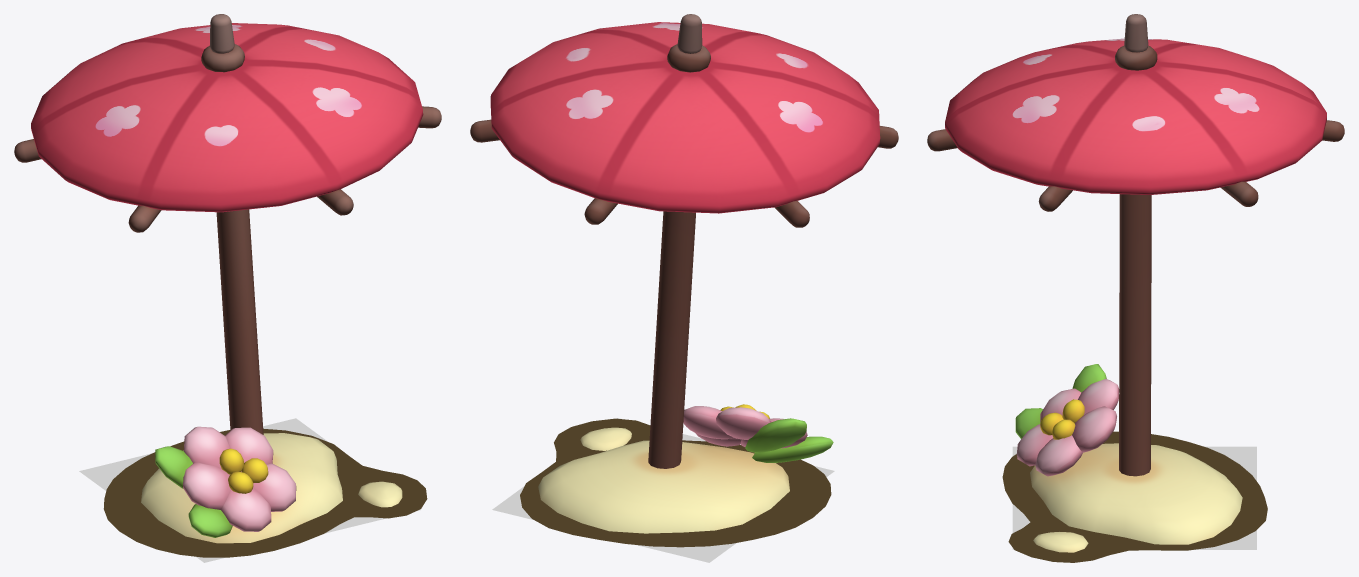
The model's file is JP_Umbrella.fbx.
The picture shows the model from 3 angles, left to right: view 1: azimuth 30°, elevation 25°; view 2: azimuth 150°, elevation 25°; view 3: azimuth 270°, elevation 25°; orthographic projection. The views are drawn at different scales.
Parts seen in each view (by area): view 1: polySurface2, Shadow, Umbrella_Grid; view 2: polySurface2, Shadow, Umbrella_Grid; view 3: polySurface2, Shadow, Umbrella_Grid.
Boxes of the visible parts, left/top/right/bottom form: polySurface2: left=14, top=14, right=441, bottom=543; Shadow: left=103, top=428, right=427, bottom=557; Umbrella_Grid: left=79, top=418, right=420, bottom=562; polySurface2: left=470, top=14, right=898, bottom=533; Shadow: left=520, top=418, right=831, bottom=547; Umbrella_Grid: left=492, top=418, right=834, bottom=562; polySurface2: left=927, top=14, right=1344, bottom=552; Shadow: left=1002, top=431, right=1267, bottom=562; Umbrella_Grid: left=1012, top=446, right=1256, bottom=549.
Bounding box in the file's own units: 1.56 × 2.11 × 1.71.
